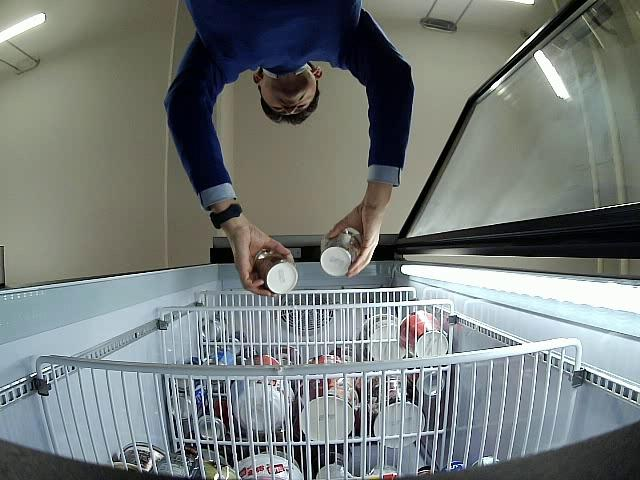00_hand: (227, 217, 294, 297), (327, 198, 390, 278)
04_chapagetti_S: (255, 249, 298, 294), (320, 230, 363, 272)
